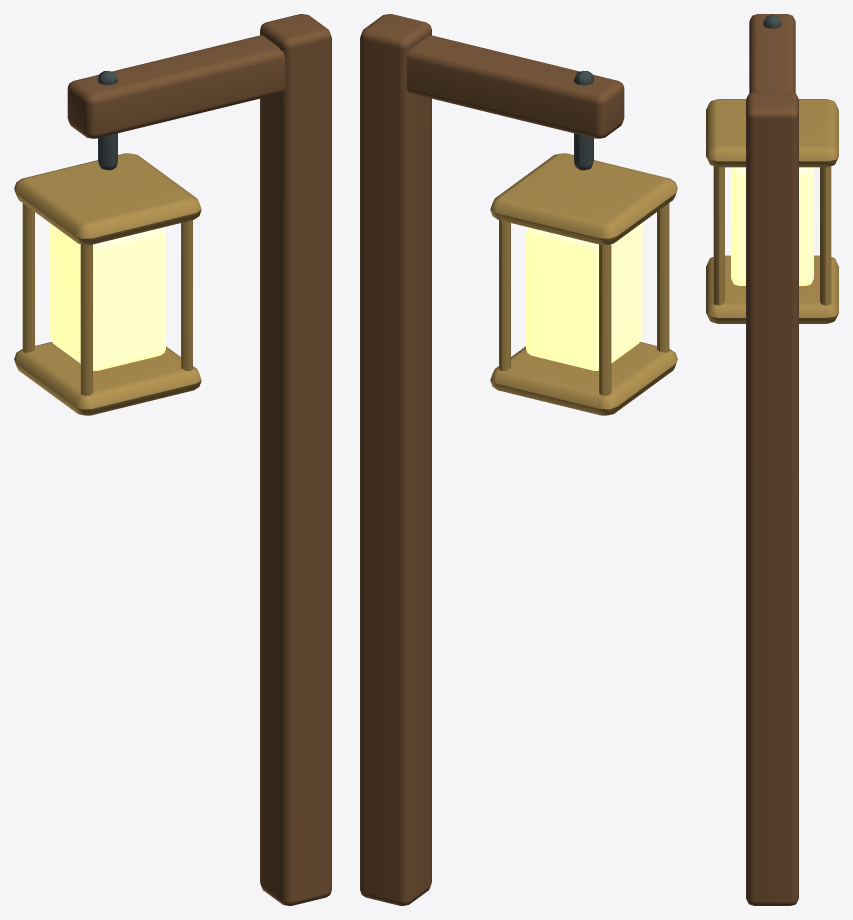
File: SM_LanternPost.fbx
3 views of the same model, side by side, from view 1: azimuth 30°, elevation 25°; view 2: azimuth 150°, elevation 25°; view 3: azimuth 270°, elevation 25° (orthographic). The views are drawn at different scales.
Visible parts, largest first — view 1: Road lantern post, Road lantern arm, Lantern glowing paper.001, Lantern cap.003, Lantern cap.002, Lantern cage.004, Lantern cage.005, Lantern cage.006, Lantern hook.001; view 2: Road lantern post, Road lantern arm, Lantern glowing paper.001, Lantern cap.003, Lantern cap.002, Lantern cage.005, Lantern cage.004, Lantern cage.007, Lantern hook.001; view 3: Road lantern post, Lantern cap.003, Lantern glowing paper.001, Road lantern arm, Lantern cap.002, Lantern cage.006, Lantern cage.007.
Boxes of the visible parts, <box> form: Road lantern post: <box>260,14,331,905</box>; Road lantern arm: <box>67,35,285,138</box>; Lantern glowing paper.001: <box>49,223,165,370</box>; Lantern cap.003: <box>14,153,201,244</box>; Lantern cap.002: <box>14,342,201,415</box>; Lantern cage.004: <box>80,244,92,395</box>; Lantern cage.005: <box>22,203,34,352</box>; Lantern cage.006: <box>181,220,192,371</box>; Lantern hook.001: <box>98,71,117,170</box>; Road lantern post: <box>360,14,431,905</box>; Road lantern arm: <box>406,35,624,138</box>; Lantern glowing paper.001: <box>526,223,642,370</box>; Lantern cap.003: <box>490,153,677,244</box>; Lantern cap.002: <box>490,342,677,415</box>; Lantern cage.005: <box>599,244,611,395</box>; Lantern cage.004: <box>657,203,669,352</box>; Lantern cage.007: <box>499,220,510,371</box>; Lantern hook.001: <box>574,71,593,170</box>; Road lantern post: <box>746,92,798,905</box>; Lantern cap.003: <box>706,99,838,167</box>; Lantern glowing paper.001: <box>731,167,813,285</box>; Road lantern arm: <box>749,14,795,93</box>; Lantern cap.002: <box>706,255,838,323</box>; Lantern cage.006: <box>713,166,724,305</box>; Lantern cage.007: <box>820,166,831,305</box>.
Size of what is drawn, in the model's own units: 88 by 265 by 40.
